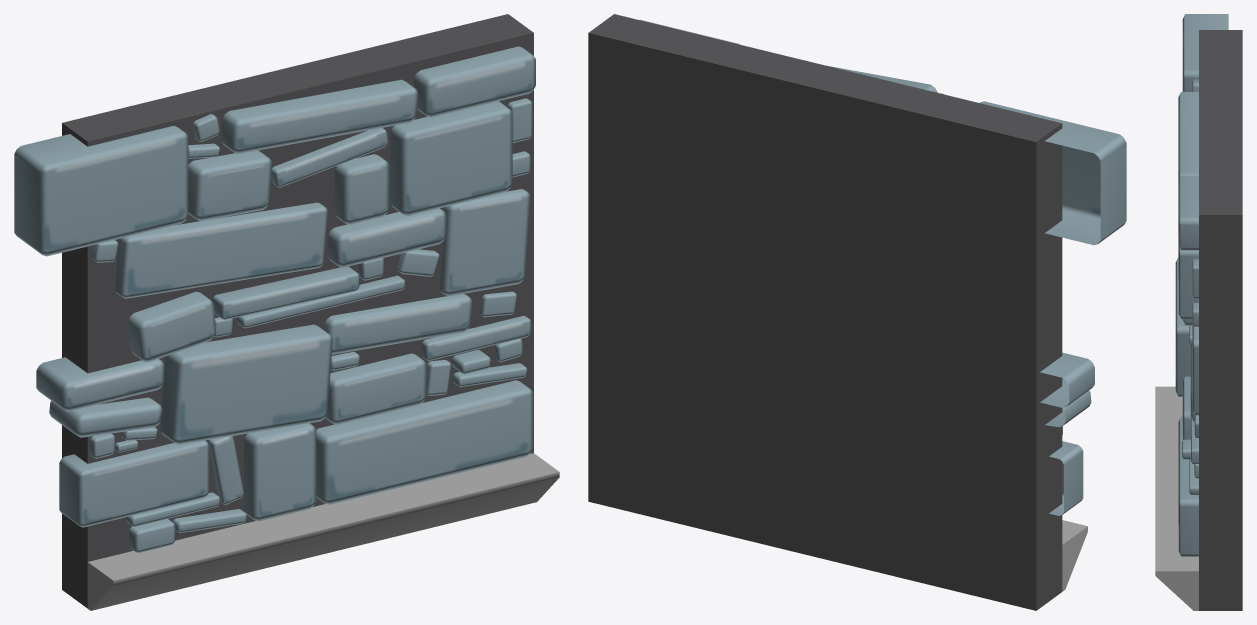
The model's file is Edge Wall Right Textured.fbx.
The picture shows the model from 3 angles, left to right: view 1: azimuth 30°, elevation 25°; view 2: azimuth 150°, elevation 25°; view 3: azimuth 270°, elevation 25°; orthographic projection. The views are drawn at different scales.
Visible parts, largest first — view 1: Edge_Wall_Right; view 2: Edge_Wall_Right; view 3: Edge_Wall_Right.
Boxes of the visible parts, <box> form: Edge_Wall_Right: <box>14,14,559,610</box>; Edge_Wall_Right: <box>588,14,1126,610</box>; Edge_Wall_Right: <box>1155,14,1242,610</box>.
Size of the model in its own units: 11.25 by 10 by 2.
